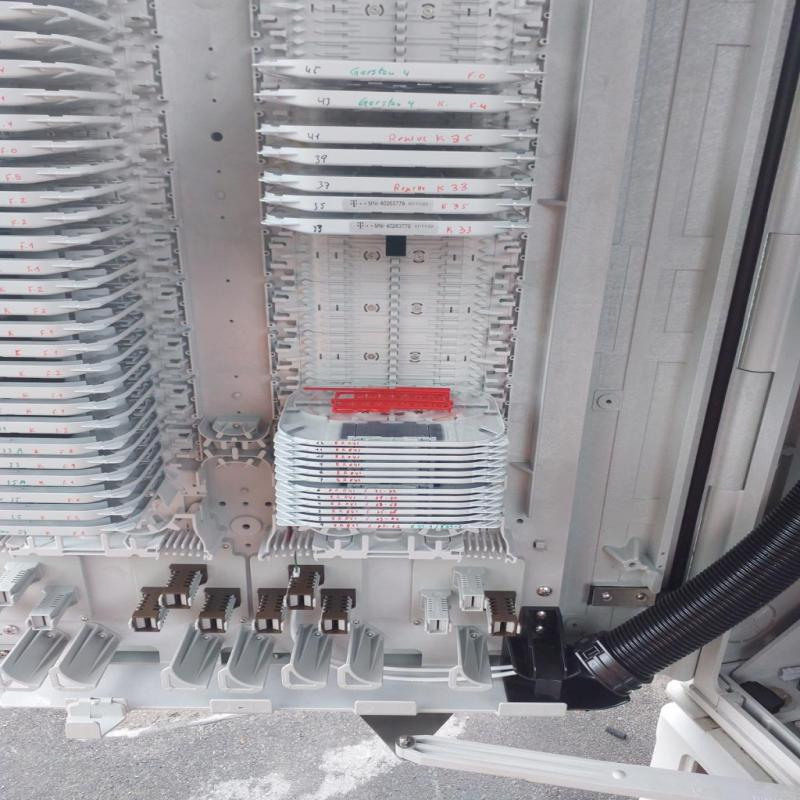NT-Gehause: (0, 0, 799, 726)
Spleiskassetten: (255, 4, 505, 553), (0, 0, 206, 568)
